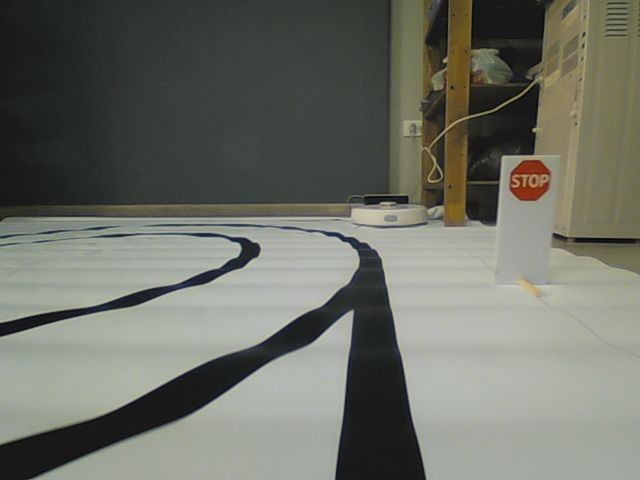Stop: (507, 158, 552, 203)
